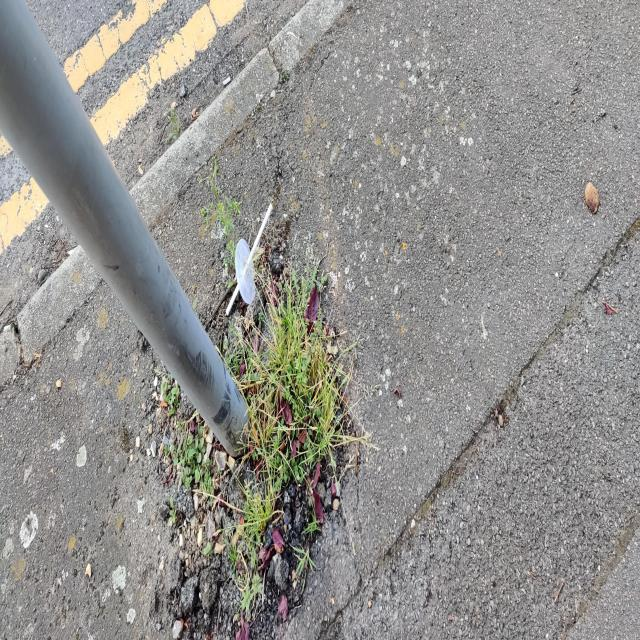litter: (228, 190, 278, 326)
